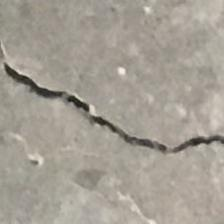Crack: (1, 56, 224, 163)
